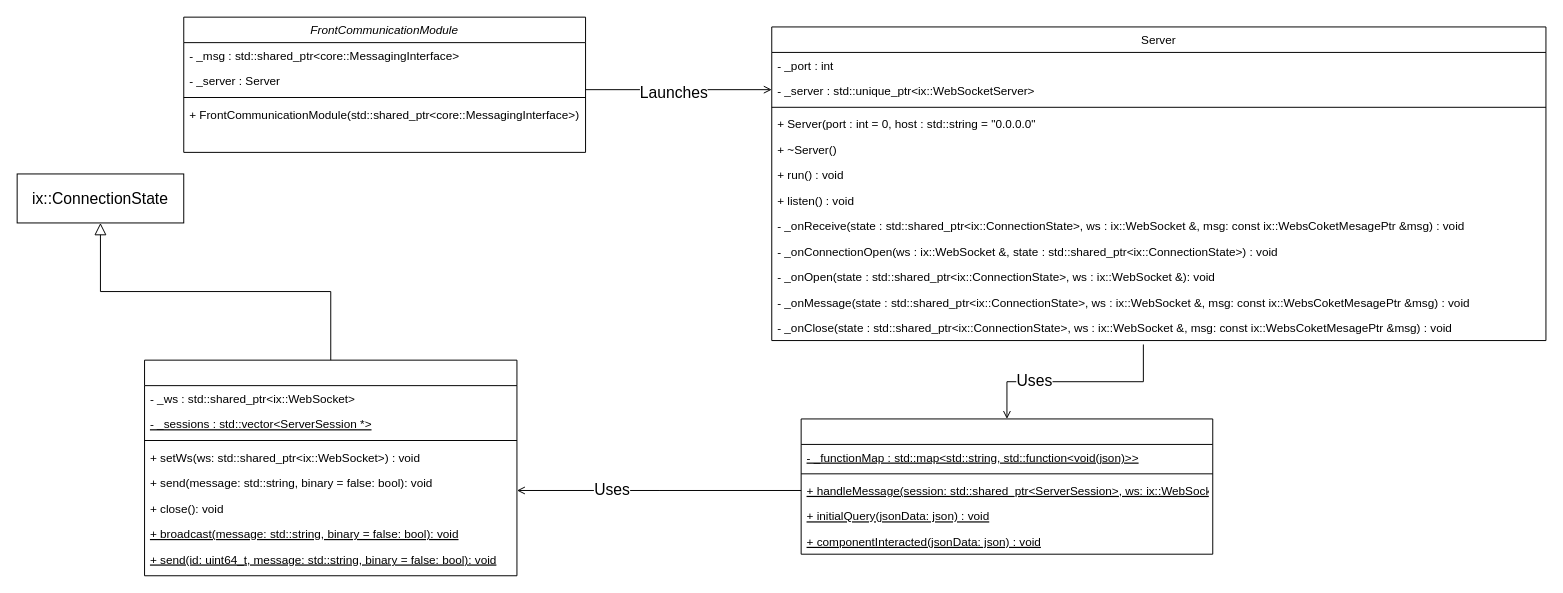
This 1563x593 diagram has some shape labels left out. Here are the shapes that lost their labels. From the top down, the box of each, then its label:
(144, 359, 517, 576): ServerSession
(800, 418, 1213, 554): RequestHandler
